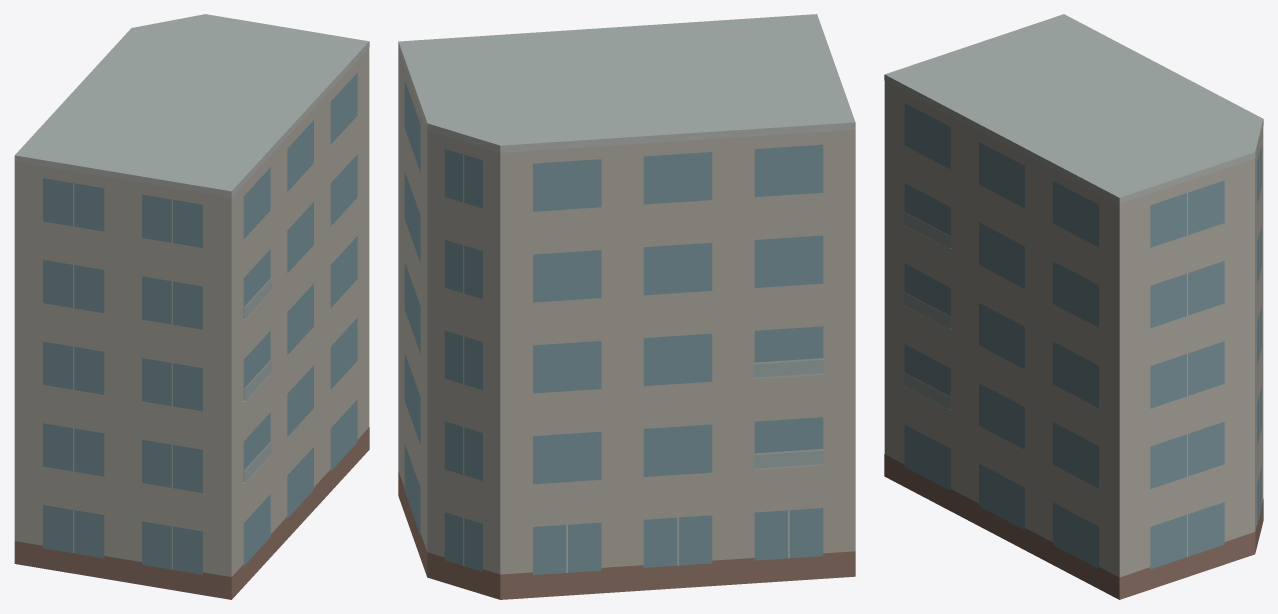
The model's file is survey-upis-32769210.glb.
3 renders of one model, left to right at view 1: azimuth 30°, elevation 25°; view 2: azimuth 150°, elevation 25°; view 3: azimuth 270°, elevation 25°, orthographic. The views are drawn at different scales.
Visible parts, largest first — view 1: survey-upis-32769210.tmp; view 2: survey-upis-32769210.tmp; view 3: survey-upis-32769210.tmp.
Boxes of the visible parts, <box> form: survey-upis-32769210.tmp: <box>14,14,369,599</box>; survey-upis-32769210.tmp: <box>398,14,855,599</box>; survey-upis-32769210.tmp: <box>884,14,1263,599</box>.
Size of the model in its own units: 15.07 by 15.35 by 13.12.
